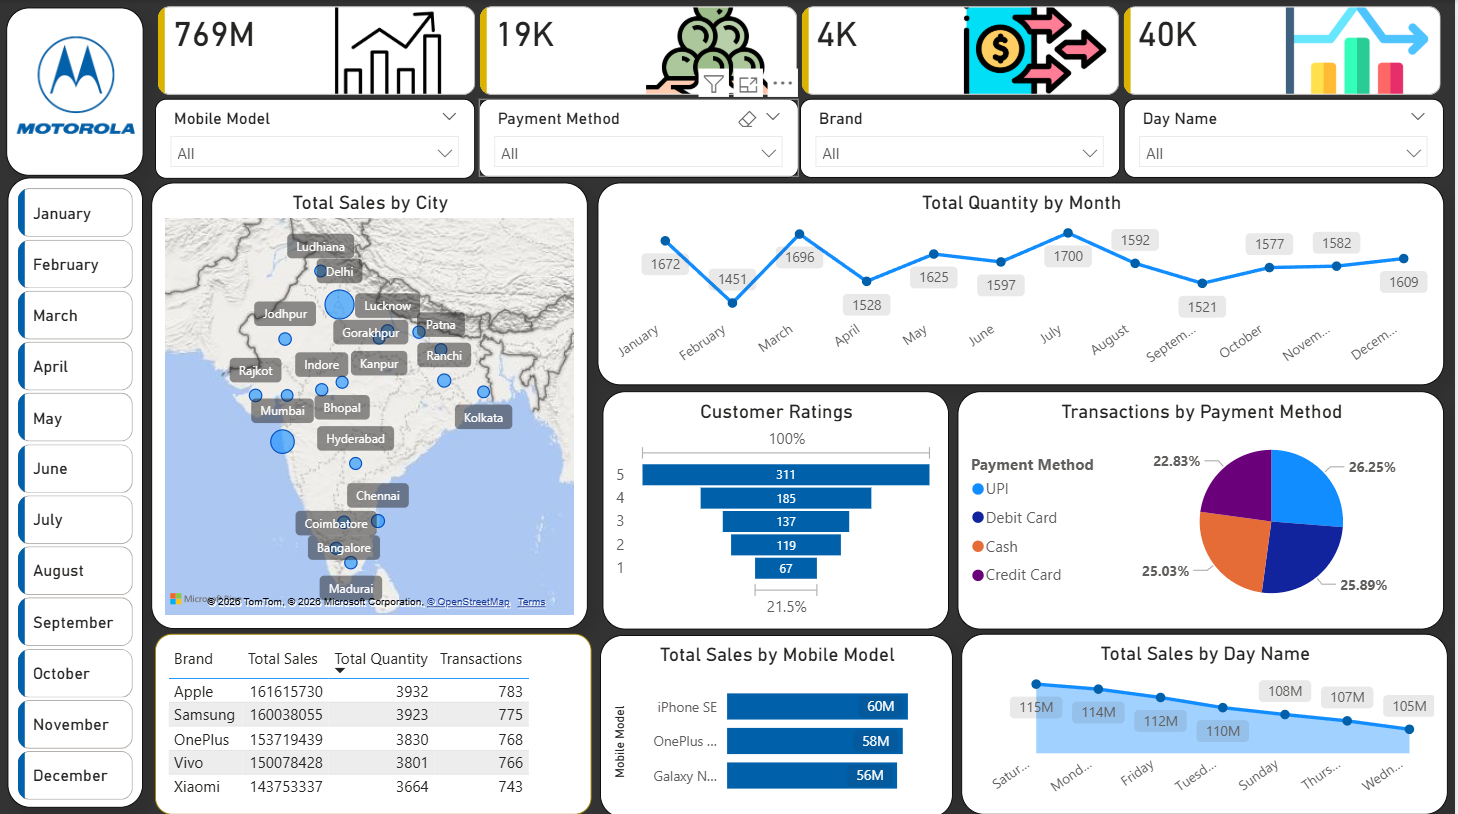

What the dashboard file says about the page in this screenshot:
{"tool":"powerbi","page":{"name":"Page 1","canvas":[1280,720],"ordinal":0},"visuals":[{"type":"shape","box":[5.5,6.9,120.8,148.2],"z":0},{"type":"image","box":[9.6,16.5,113.9,116.6],"z":1000},{"type":"shape","box":[6.9,156.4,119.4,554.4],"z":2000},{"type":"advancedSlicerVisual","fields":{"Values":["Sales_Data.Date.Variation.Date Hierarchy.Month"]},"box":[11,160.5,111.1,548.9],"z":3000},{"type":"cardVisual","fields":{"Data":["Sales_Data.Total Sales","Sales_Data.Total Quantity","Sales_Data.Transactions","Sales_Data.Average"]},"box":[134,5.6,1140.1,83.7],"z":4000},{"type":"map","fields":{"Category":["Sales_Data.City"],"Size":["Sales_Data.Total Sales"]},"box":[132.9,160.8,384.1,393.1],"z":5000},{"type":"lineChart","fields":{"Y":["Sales_Data.Total Quantity"],"Category":["Sales_Data.Date.Variation.Date Hierarchy.Month","Sales_Data.Date.Variation.Date Hierarchy.Day"]},"box":[525.9,160.8,744.8,178.7],"z":6000},{"type":"clusteredBarChart","fields":{"Category":["Sales_Data.Mobile Model"],"Y":["Sales_Data.Total Sales"]},"box":[528.3,558.5,310.1,160.5],"z":7000},{"type":"pieChart","fields":{"Category":["Sales_Data.Payment Method"],"Y":["Sales_Data.Transactions"]},"box":[842.5,344.4,428.1,209.9],"z":8000},{"type":"funnel","title":"Customer Ratings","fields":{"Category":["Sales_Data.Customer Ratings"],"Y":["CountNonNull(Sales_Data.Customer Ratings)"]},"box":[529.7,344.4,304.6,209.9],"z":9000},{"type":"areaChart","fields":{"Category":["Sales_Data.Day Name"],"Y":["Sales_Data.Total Sales"]},"box":[845.3,557.1,428.1,159.2],"z":10000},{"type":"tableEx","fields":{"Values":["Sales_Data.Brand","Sales_Data.Total Sales","Sales_Data.Total Quantity","Sales_Data.Transactions"]},"box":[135.8,557.1,384.2,159.2],"z":11000},{"type":"slicer","fields":{"Values":["Sales_Data.Mobile Model"]},"box":[136.2,87.1,281.4,70.3],"z":12000},{"type":"slicer","fields":{"Values":["Sales_Data.Payment Method"]},"box":[421,87.1,281.4,69.2],"z":13000},{"type":"slicer","fields":{"Values":["Sales_Data.Brand"]},"box":[703.5,87.1,281.4,69.2],"z":14000},{"type":"slicer","fields":{"Values":["Sales_Data.Day Name"]},"box":[988.2,87.1,281.4,69.2],"z":15000}]}

Visuals, with their boxes in screenshot pixels (x1, y1, x2, y2), scaled from the page's 1280x720 canvas onto the 1458x814 screenshot:
shape: x1=6 y1=8 x2=144 y2=175
image: x1=11 y1=19 x2=141 y2=150
shape: x1=8 y1=177 x2=144 y2=804
advancedSlicerVisual - Sales_Data.Date.Variation.Date Hierarchy.Month: x1=13 y1=181 x2=139 y2=802
cardVisual - Sales_Data.Total Sales x Sales_Data.Total Quantity: x1=153 y1=6 x2=1451 y2=101
map - Sales_Data.City x Sales_Data.Total Sales: x1=151 y1=182 x2=589 y2=626
lineChart - Sales_Data.Total Quantity x Sales_Data.Date.Variation.Date Hierarchy.Month: x1=599 y1=182 x2=1447 y2=384
clusteredBarChart - Sales_Data.Mobile Model x Sales_Data.Total Sales: x1=602 y1=631 x2=955 y2=813
pieChart - Sales_Data.Payment Method x Sales_Data.Transactions: x1=960 y1=389 x2=1447 y2=627
"Customer Ratings" funnel: x1=603 y1=389 x2=950 y2=627
areaChart - Sales_Data.Day Name x Sales_Data.Total Sales: x1=963 y1=630 x2=1450 y2=810
tableEx - Sales_Data.Brand x Sales_Data.Total Sales: x1=155 y1=630 x2=592 y2=810
slicer - Sales_Data.Mobile Model: x1=155 y1=98 x2=476 y2=178
slicer - Sales_Data.Payment Method: x1=480 y1=98 x2=800 y2=177
slicer - Sales_Data.Brand: x1=801 y1=98 x2=1122 y2=177
slicer - Sales_Data.Day Name: x1=1126 y1=98 x2=1446 y2=177
